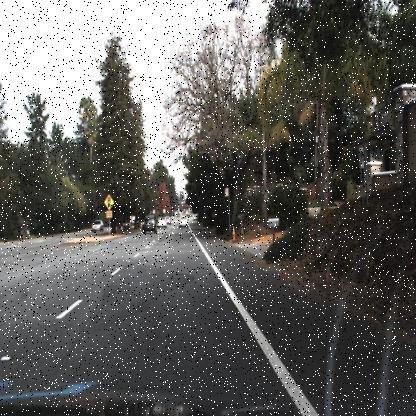car: (139, 210, 158, 238), (88, 218, 105, 236), (178, 210, 191, 230), (154, 212, 168, 230)
